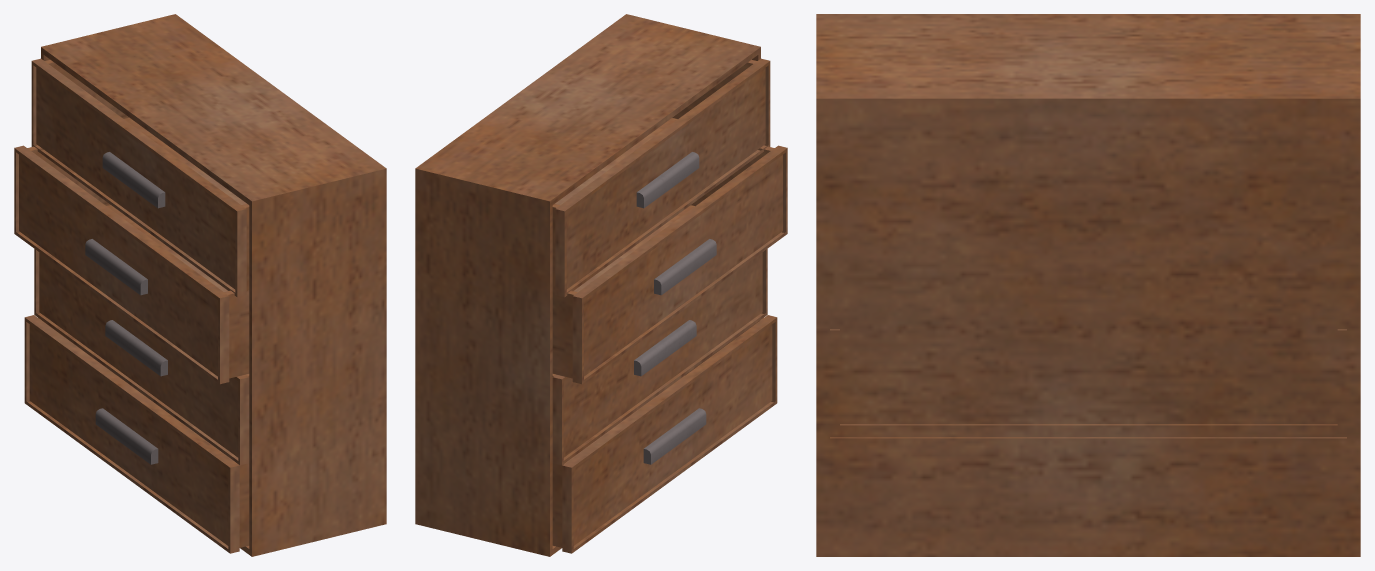
Rendered from Cabinet.fbx.
3 views of the same model, side by side, from view 1: azimuth 30°, elevation 25°; view 2: azimuth 150°, elevation 25°; view 3: azimuth 270°, elevation 25° (orthographic). The views are drawn at different scales.
Parts seen in each view (by area): view 1: Cabinet; view 2: Cabinet; view 3: Cabinet.
Boxes of the visible parts, <box> form: Cabinet: <box>14,14,386,556</box>; Cabinet: <box>415,14,787,556</box>; Cabinet: <box>816,14,1360,556</box>.
Size of the model in its own units: 239 by 477 by 514.
